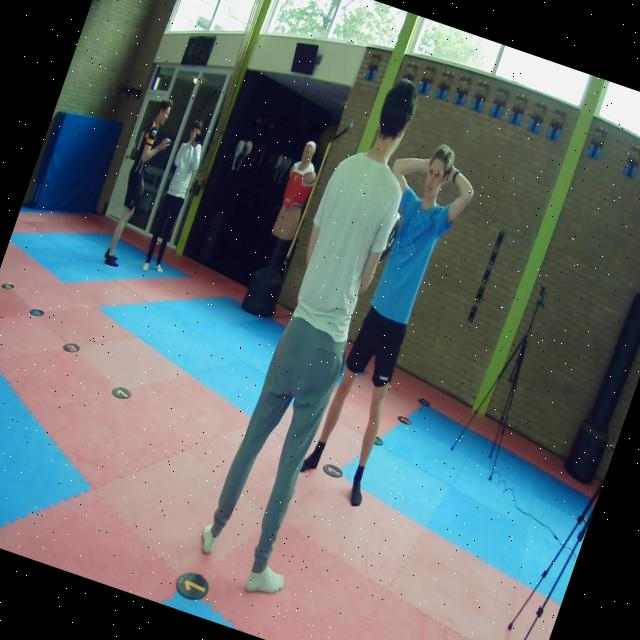paddle: (380, 211, 399, 259)
